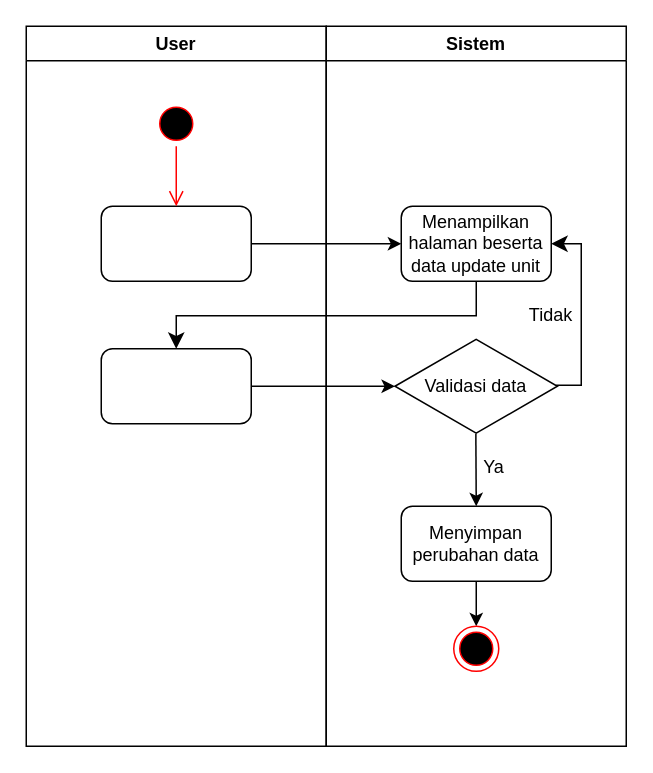
The diagram is 653 pixels wide and 773 high, and some of its shapes have lost their labels. Each missing label, with the centre of its shape:
Memilih tombol update data: (x=175, y=243)
Mengubah data unit pada form update: (x=175, y=385)
